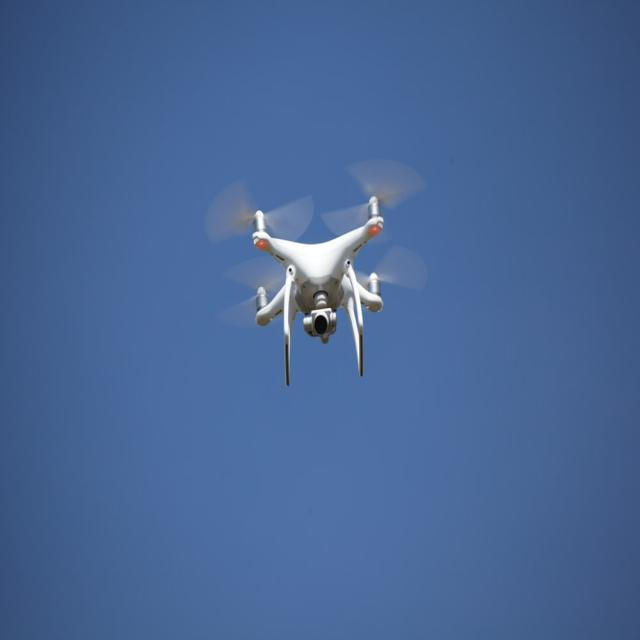drone: (212, 145, 424, 390)
